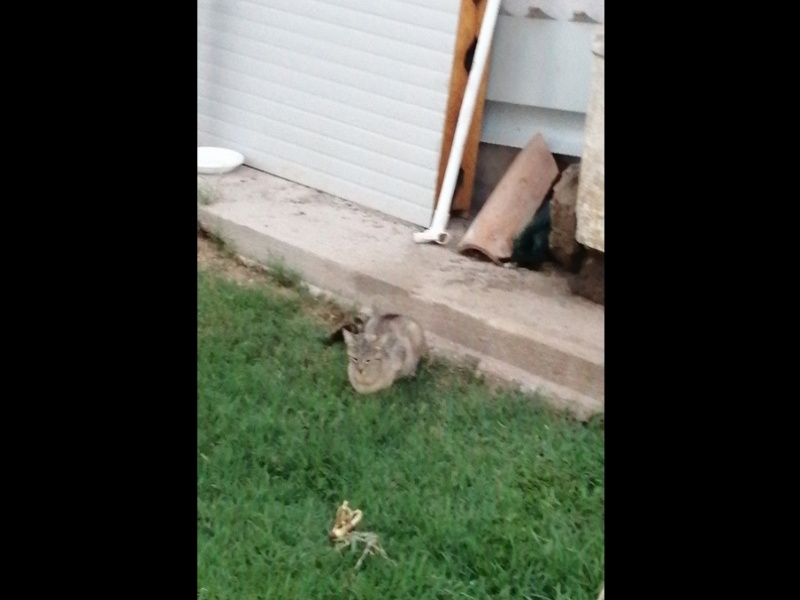cat: (343, 304, 428, 397)
